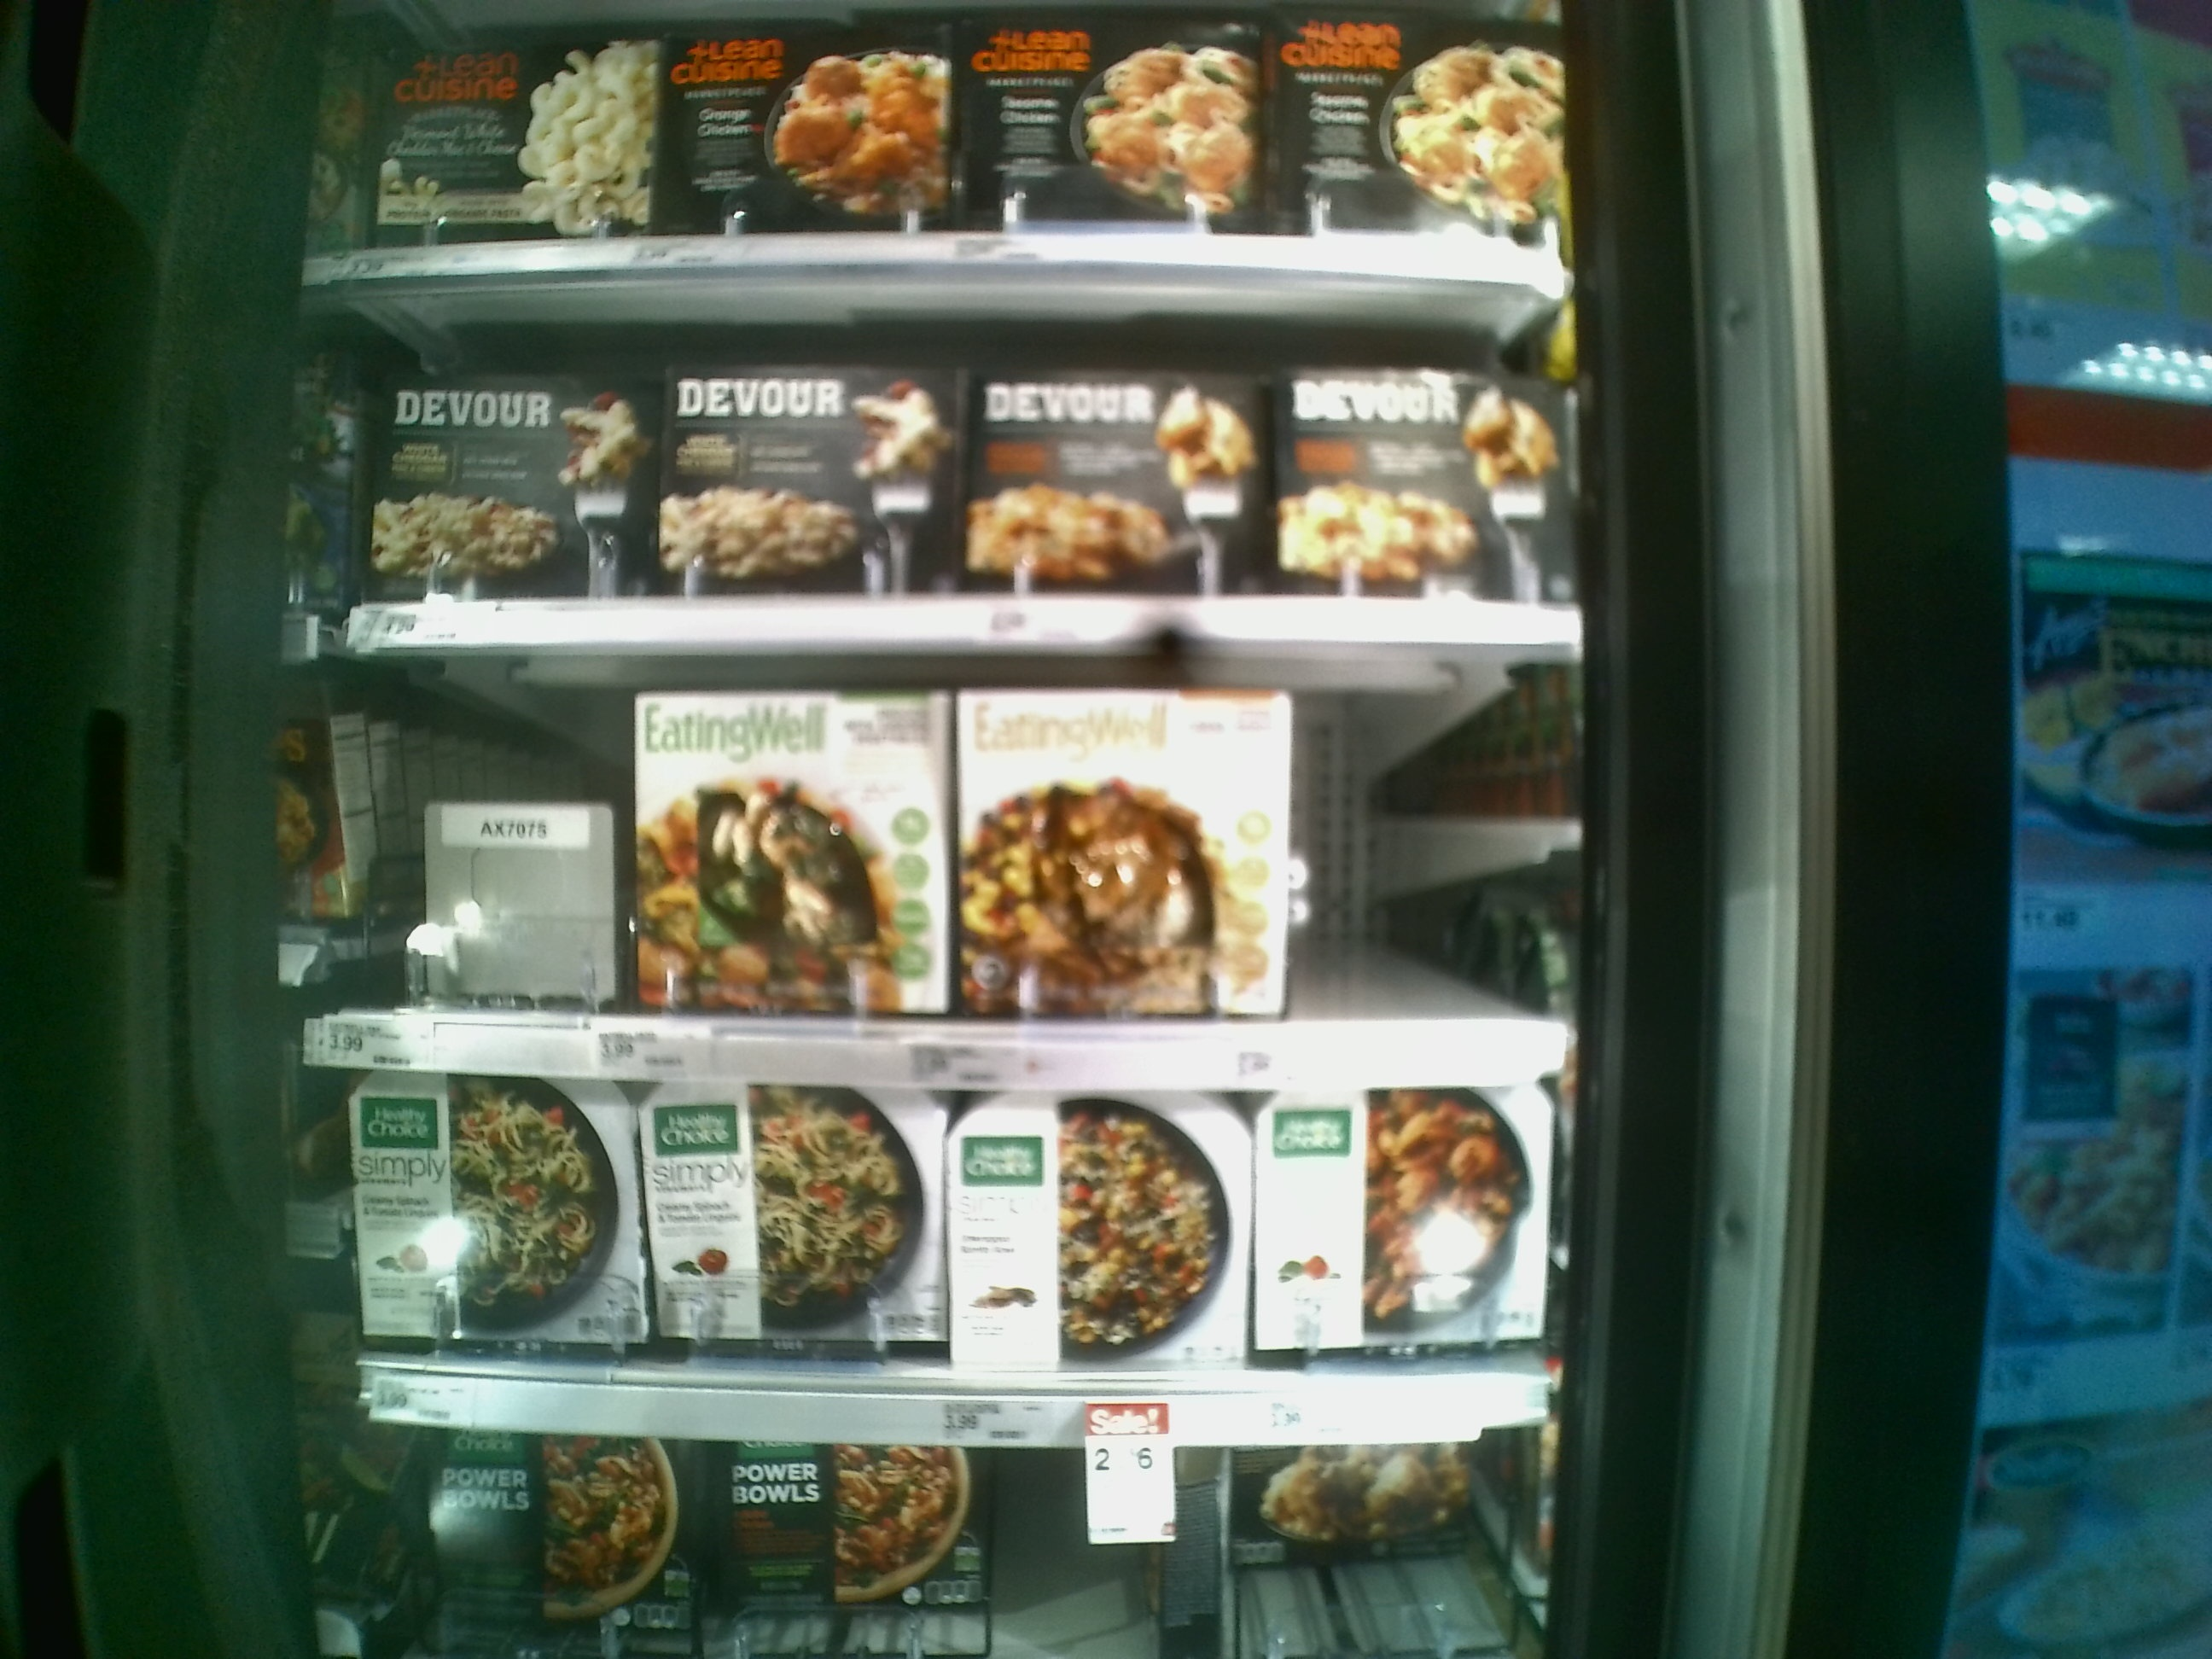pizza: (939, 681, 1310, 1028), (625, 687, 954, 1018), (948, 1091, 1251, 1382), (637, 1091, 958, 1364), (355, 1079, 651, 1351), (1273, 350, 1585, 606), (1259, 1091, 1555, 1359), (974, 371, 1277, 591), (968, 14, 1275, 225), (1285, 10, 1575, 234), (664, 369, 958, 587), (371, 373, 664, 591), (662, 19, 967, 225), (381, 33, 653, 244), (416, 1436, 678, 1643), (721, 1452, 993, 1624)
